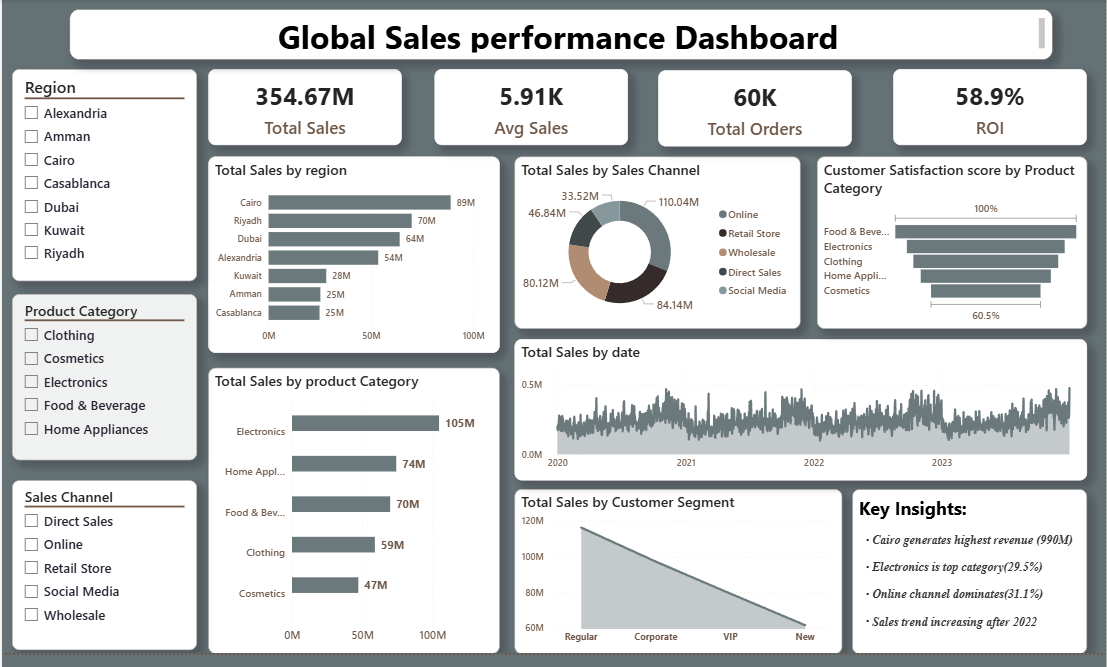

This screenshot's page, from the dashboard's own definition file:
{"tool":"powerbi","page":{"name":"Page 1","canvas":[1460,866],"ordinal":0},"visuals":[{"type":"card","fields":{"Values":["sales_project sales.Total Sales"]},"box":[272.9,92.6,256.3,100.9],"z":0},{"type":"barChart","fields":{"Category":["sales_project sales.region"],"Y":["sales_project sales.Total Sales"]},"box":[272.9,208.4,385.3,259.7],"z":4000},{"type":"donutChart","title":"Total Sales by Sales Channel","fields":{"Category":["sales_project sales.sales_channel"],"Y":["sales_project sales.Total Sales"]},"box":[678.1,208.4,378.7,228.2],"z":5000},{"type":"areaChart","title":"Total Sales by Customer Segment","fields":{"Category":["sales_project sales.customer_segment"],"Y":["sales_project sales.Total Sales"]},"box":[678.1,648.3,433.3,218.3],"z":6000},{"type":"lineChart","fields":{"Y":["sales_project sales.Total Sales"],"Category":["sales_project sales.date"]},"box":[678.1,449.8,757.5,186.9],"z":7000},{"type":"slicer","fields":{"Values":["sales_project sales.region"]},"box":[13.2,92.6,244.8,281.2],"z":10000},{"type":"clusteredBarChart","title":"Total Sales by product Category","fields":{"Category":["sales_project sales.product_category"],"Y":["sales_project sales.Total Sales","sales_project sales.Total Sales YoY% 7"]},"box":[272.9,487.9,385.3,378.7],"z":10000},{"type":"slicer","fields":{"Values":["sales_project sales.product_category"]},"box":[13.2,390.3,244.8,220],"z":11000},{"type":"textbox","box":[1124.6,648.3,310.9,218.3],"z":11000},{"type":"textbox","box":[89,13.8,1300.8,67.5],"z":11001},{"type":"card","fields":{"Values":["sales_project sales.Avg Sales"]},"box":[572.2,92.6,256.3,100.9],"z":11002},{"type":"card","fields":{"Values":["sales_project sales.Total Orders"]},"box":[868.3,94.3,256.3,100.9],"z":11003},{"type":"card","fields":{"Values":["sales_project sales.ROI"]},"box":[1179.2,92.6,256.3,100.9],"z":11004},{"type":"funnel","fields":{"Category":["sales_project sales.product_category"],"Y":["Sum(sales_project sales.customer_satisfaction_score)"]},"box":[1078.3,208.4,357.2,228.2],"z":11005},{"type":"slicer","fields":{"Values":["sales_project sales.sales_channel"]},"box":[13.2,636.7,244.8,224.9],"z":12000}]}

Visuals, with their boxes in screenshot pixels (x1, y1, x2, y2), scaled from the page's 1460x866 canvas onto the 1107x667 screenshot:
card - sales_project sales.Total Sales: 207,71,401,149
barChart - sales_project sales.region x sales_project sales.Total Sales: 207,161,499,361
"Total Sales by Sales Channel" donutChart: 514,161,801,336
"Total Sales by Customer Segment" areaChart: 514,499,843,666
lineChart - sales_project sales.Total Sales x sales_project sales.date: 514,346,1088,490
slicer - sales_project sales.region: 10,71,196,288
"Total Sales by product Category" clusteredBarChart: 207,376,499,666
slicer - sales_project sales.product_category: 10,301,196,470
textbox: 853,499,1088,666
textbox: 67,11,1054,63
card - sales_project sales.Avg Sales: 434,71,628,149
card - sales_project sales.Total Orders: 658,73,853,150
card - sales_project sales.ROI: 894,71,1088,149
funnel - sales_project sales.product_category x Sum(sales_project sales.customer_satisfaction_score): 818,161,1088,336
slicer - sales_project sales.sales_channel: 10,490,196,664
